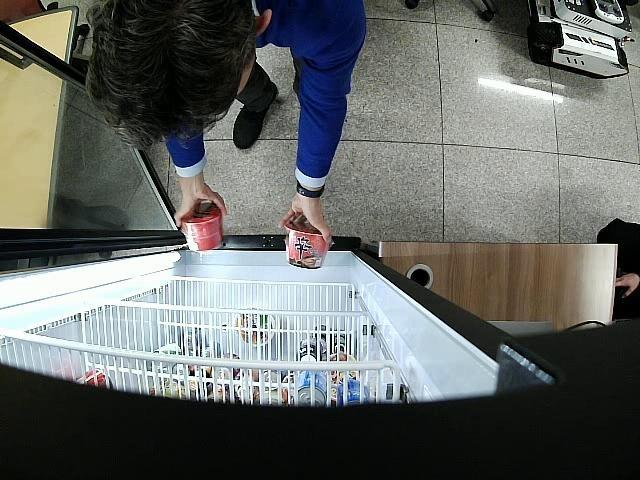01_ShinRamen_L: (284, 220, 330, 270), (180, 203, 224, 251)
